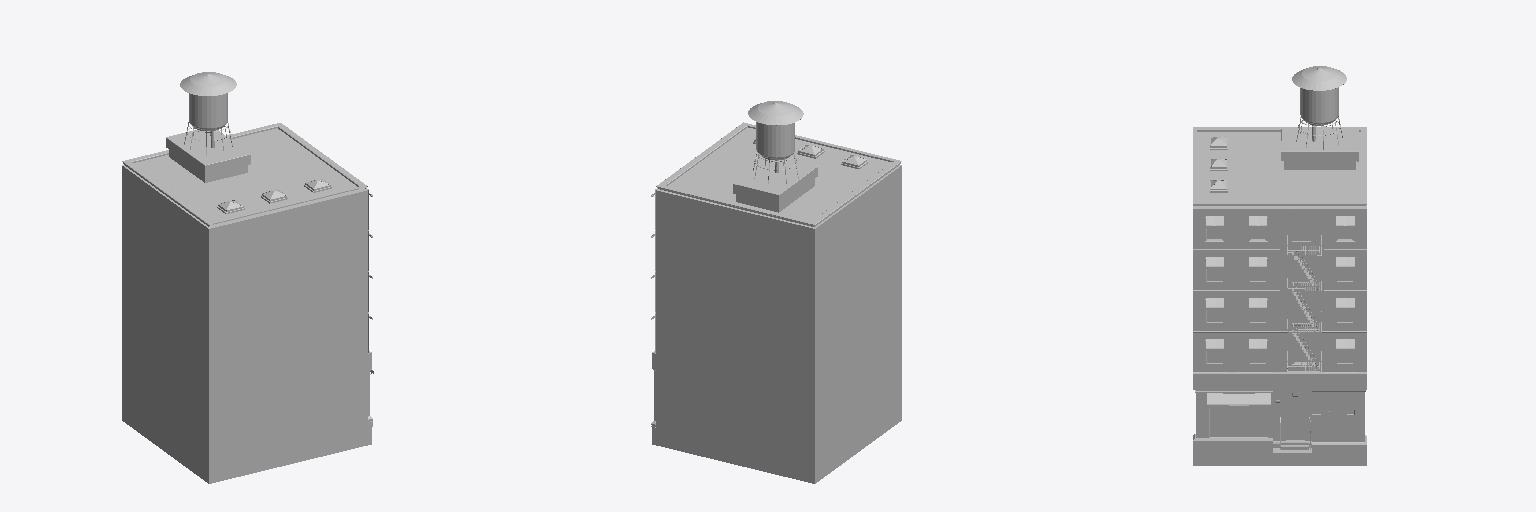
File: FiveA2.obj
3 views of the same model, side by side, from view 1: azimuth 30°, elevation 25°; view 2: azimuth 150°, elevation 25°; view 3: azimuth 270°, elevation 25° (orthographic).
Parts seen in each view (by area): view 1: building sides __Comp9__2, building sides __Comp9__3, building top __Comp9__5; view 2: building front __Comp9__0, building sides __Comp9__3, building top __Comp9__5; view 3: building top __Comp9__5, building facade __Comp9__1 __Subdiv10__3 Allfloors floors window, building facade __Comp9__1 __Subdiv10__3 Allfloors __Repeat9__0 , building facade __Comp9__1 __Subdiv10__3 Allfloors floors __Repe, building facade __Comp9__1 __Subdiv10__1 downfloor __Subdiv1__0 , building facade __Comp9__1 __Subdiv10__1 downfloor __Subdiv1__2 , building facade __Comp9__1 __Subdiv1__0 downfloorwindow __Subdiv, building facade __Comp9__1 __Subdiv10__1 downfloor __Subdiv1__1 , building facade __Comp9__1 __Subdiv1__2 downfloorrest __Subdiv10, building facade __Comp9__1 __Subdiv1__1 door __Subdiv10__2 band.
Part boxes in pixels (x1,y1,x2,y2): building sides __Comp9__2: (209, 190, 367, 483); building sides __Comp9__3: (122, 166, 208, 483); building top __Comp9__5: (122, 72, 367, 228); building front __Comp9__0: (656, 190, 814, 483); building sides __Comp9__3: (815, 166, 901, 483); building top __Comp9__5: (656, 101, 901, 228); building top __Comp9__5: (1193, 66, 1366, 207); building facade __Comp9__1 __Subdiv10__3 Allfloors floors window: (1193, 207, 1366, 331); building facade __Comp9__1 __Subdiv10__3 Allfloors __Repeat9__0 : (1193, 331, 1366, 372); building facade __Comp9__1 __Subdiv10__3 Allfloors floors __Repe: (1280, 208, 1323, 340); building facade __Comp9__1 __Subdiv10__1 downfloor __Subdiv1__0 : (1193, 390, 1272, 448); building facade __Comp9__1 __Subdiv10__1 downfloor __Subdiv1__2 : (1312, 390, 1366, 448); building facade __Comp9__1 __Subdiv1__0 downfloorwindow __Subdiv: (1193, 372, 1272, 465); building facade __Comp9__1 __Subdiv10__1 downfloor __Subdiv1__1 : (1273, 390, 1311, 452); building facade __Comp9__1 __Subdiv1__2 downfloorrest __Subdiv10: (1312, 372, 1366, 465); building facade __Comp9__1 __Subdiv1__1 door __Subdiv10__2 band: (1273, 372, 1311, 389).
Bounding box in the file's own units: 3598 × 6616 × 2998.